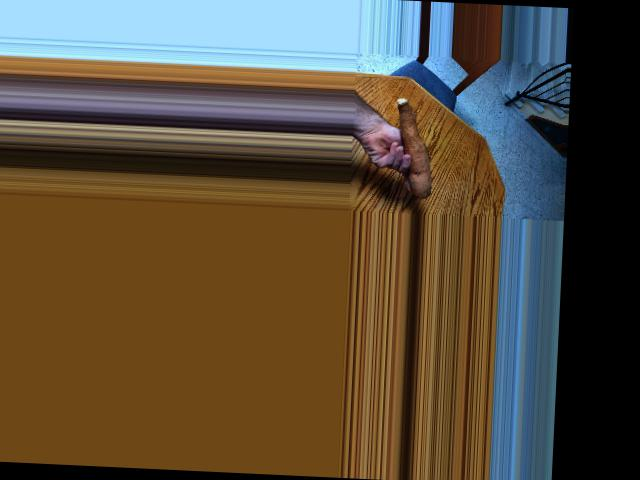sweet_potato: (389, 96, 437, 200)
